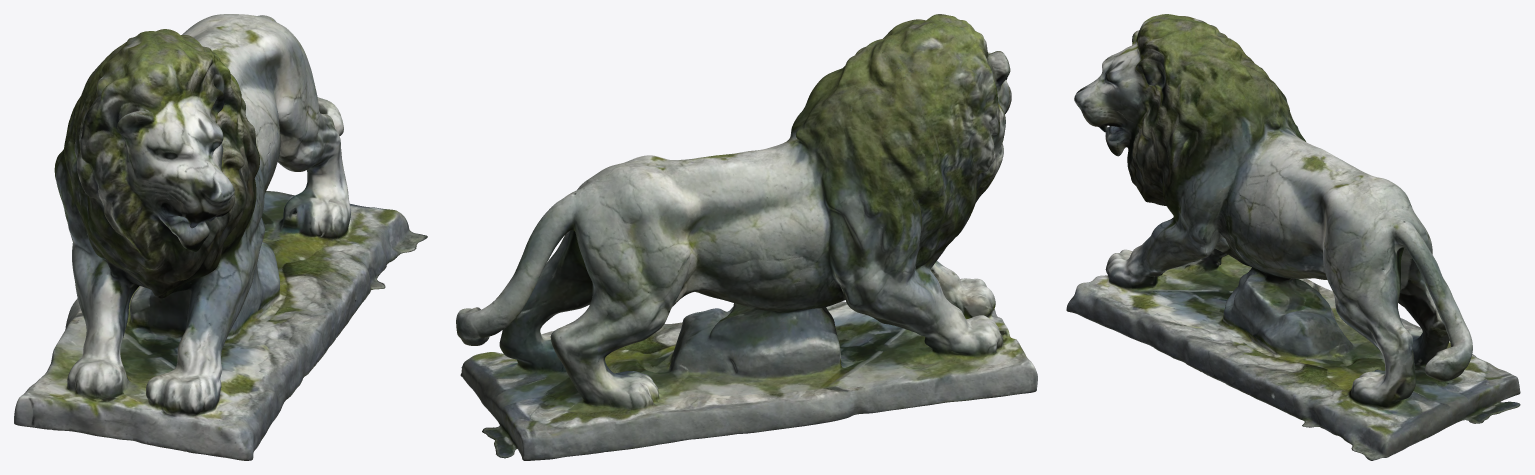
File: bq_lion.hd.glb
The picture shows the model from 3 angles, left to right: view 1: azimuth 30°, elevation 25°; view 2: azimuth 150°, elevation 25°; view 3: azimuth 270°, elevation 25°; orthographic projection. The views are drawn at different scales.
Bounding box in the file's own units: 2.01 × 1.41 × 1.97.
Materials: 1 (1 with a texture image).
